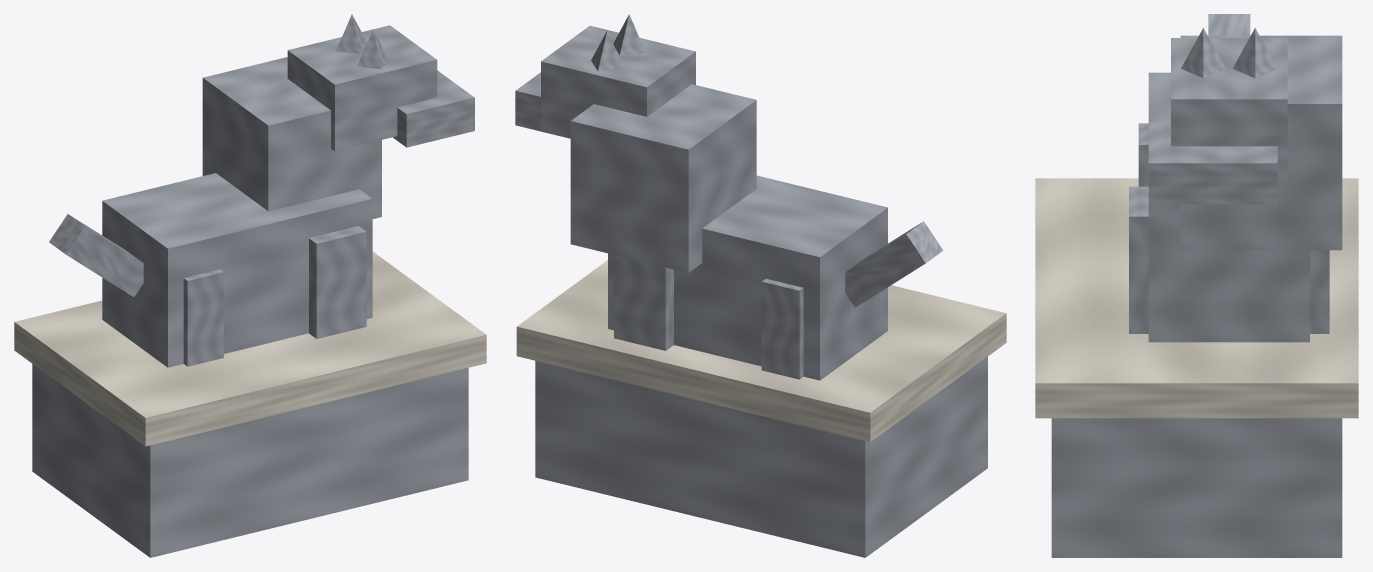
Rendered from vampire-crypt-and-gothic-cathedral-wolf-statue-929908be__23035.glb.
The picture shows the model from 3 angles, left to right: view 1: azimuth 30°, elevation 25°; view 2: azimuth 150°, elevation 25°; view 3: azimuth 270°, elevation 25°; orthographic projection. The views are drawn at different scales.
Visible parts, largest first — view 1: wolf-statue; view 2: wolf-statue; view 3: wolf-statue.
Boxes of the visible parts, x1,y1,x2,y2 form: wolf-statue: (14, 14, 486, 557); wolf-statue: (515, 14, 1006, 557); wolf-statue: (1035, 14, 1358, 557).
Bounding box in the file's own units: 1.69 × 1.74 × 1.
2 materials, 2 textured.
